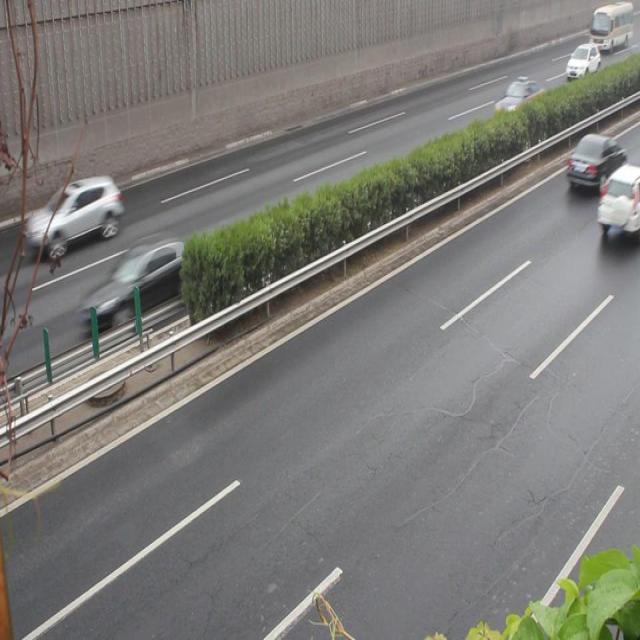car: (78, 235, 197, 332), (32, 176, 122, 257), (566, 130, 625, 196), (597, 164, 640, 240), (493, 76, 545, 126)
